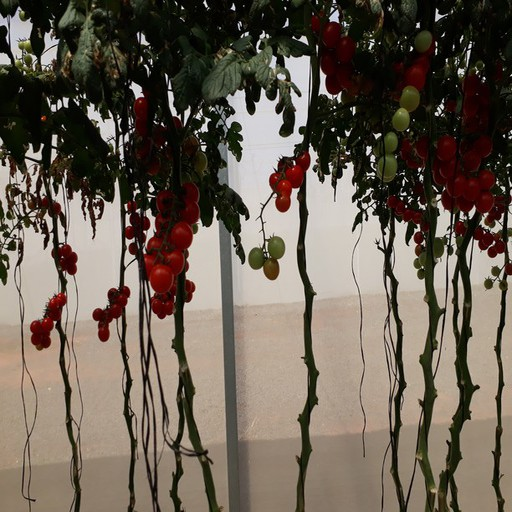green tomato bunch: (373, 30, 431, 185)
mixed tomato bunch: (133, 103, 207, 176), (448, 218, 512, 295)
red tomato bunch: (138, 180, 200, 290), (307, 16, 359, 103), (441, 133, 494, 215), (462, 72, 496, 149), (268, 153, 312, 211), (91, 284, 131, 343), (30, 290, 67, 349), (125, 201, 149, 255), (388, 197, 426, 229), (53, 241, 78, 277)
